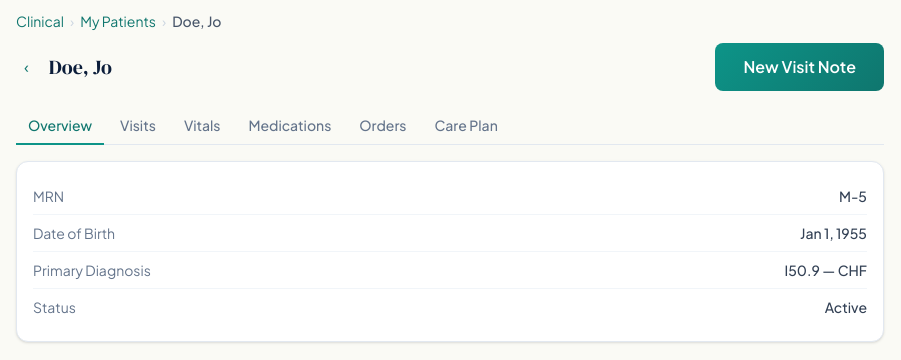
Test: ClinicianPatientDetail (clinical chart) › shows an empty state for a section with no data
This screenshot has width=901, height=360.
What coordinates should you click on to do the following:
click the tab with test id "chart-tab-orders"
I would click on:
 (383, 126)
Its box is [347,107,418,145].
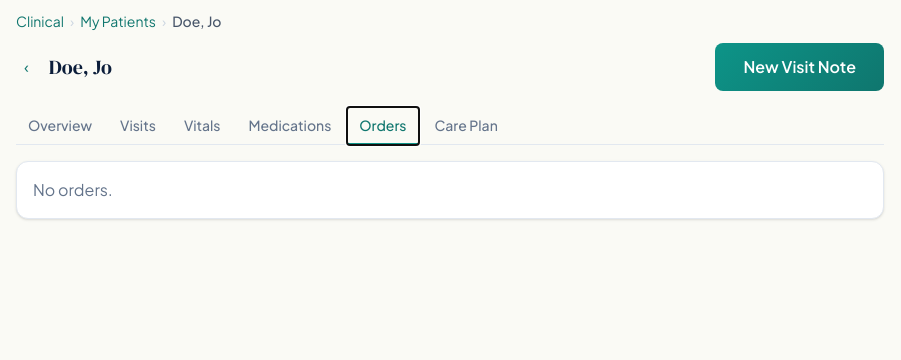
expect the text "No orders." is shown: met, box [33,179,112,200]
